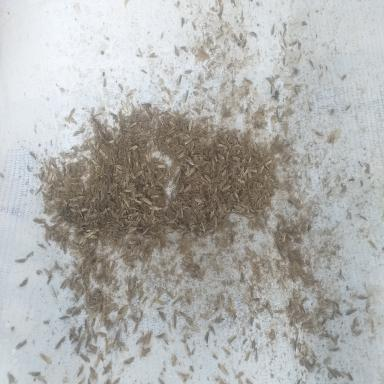pbw: (39, 353, 52, 364), (55, 336, 66, 349), (84, 334, 93, 348), (184, 167, 196, 177), (368, 240, 378, 250), (121, 100, 128, 113), (174, 170, 181, 183), (121, 305, 128, 318), (80, 353, 90, 362), (123, 356, 134, 364), (69, 327, 75, 340), (213, 316, 225, 322), (19, 278, 28, 286), (156, 332, 168, 338), (172, 311, 176, 328), (159, 310, 165, 321), (348, 371, 354, 382), (244, 78, 253, 85), (188, 118, 192, 132)
